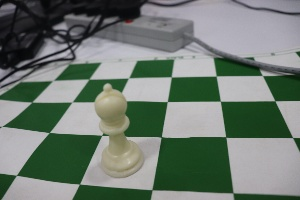white_bishop: (81, 68, 148, 185)
